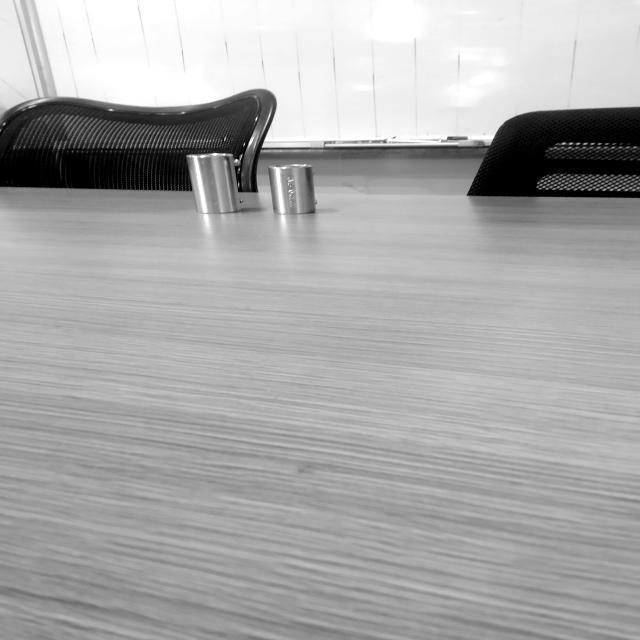Co_Lon: (186, 150, 246, 216)
Co_Nho: (268, 161, 318, 218)
